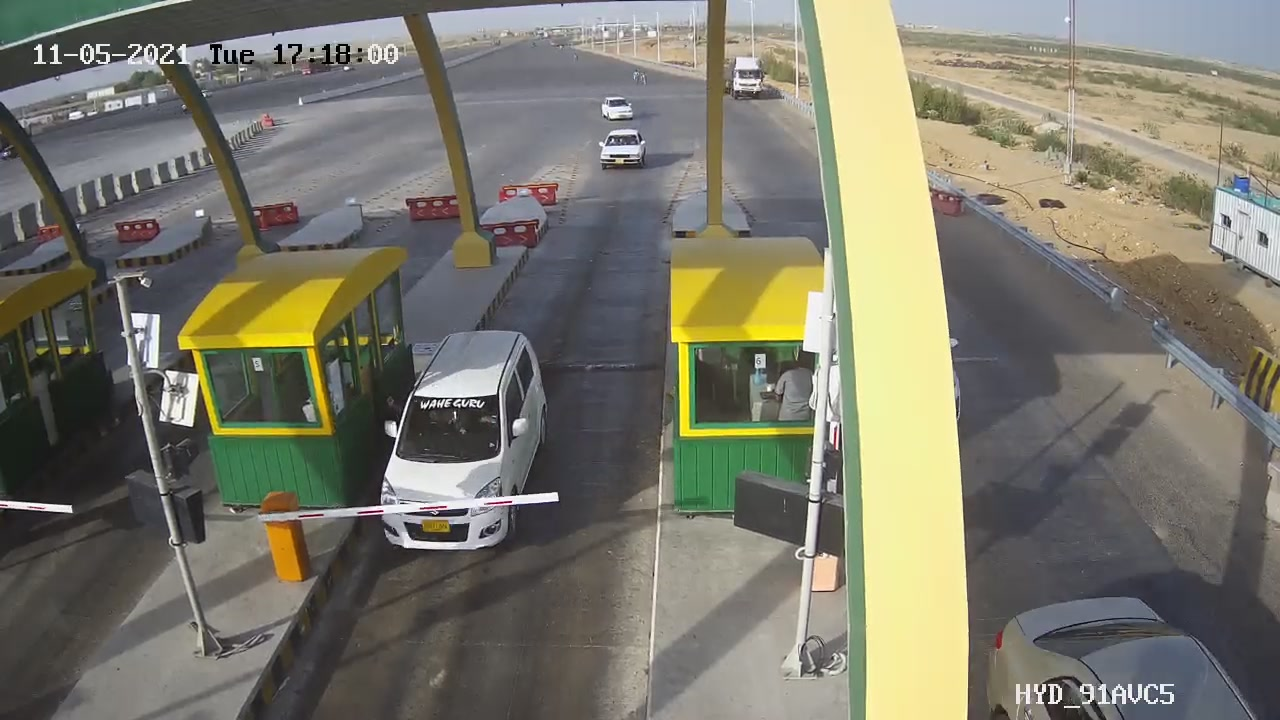F1: (363, 313, 570, 566)
